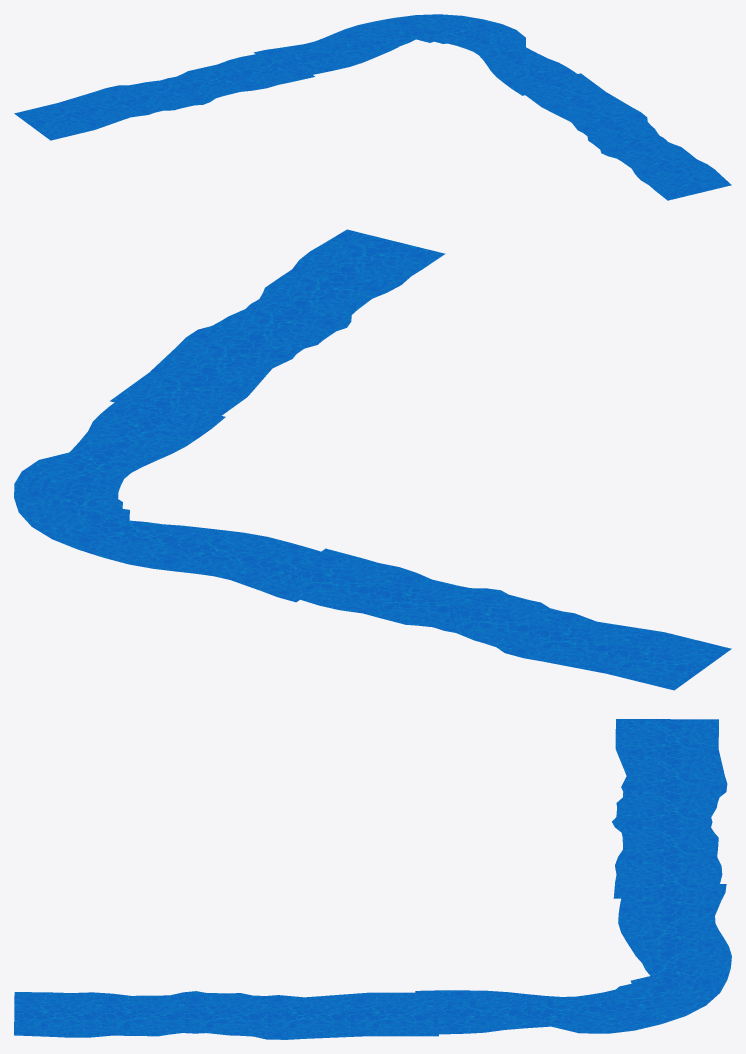
The picture shows the model from 3 angles, top to bottom: view 1: azimuth 30°, elevation 25°; view 2: azimuth 150°, elevation 25°; view 3: azimuth 270°, elevation 25°; orthographic projection. The views are drawn at different scales.
Visible parts, largest first — view 1: sub12; view 2: sub12; view 3: sub12.
Part boxes in pixels (x1,y1,x2,y2): sub12: (14,14,731,200); sub12: (14,229,731,690); sub12: (14,719,731,1039).
Size of the model in its own units: 9 by 0.000977 by 8.51.
Materials: 2 (2 with a texture image).
